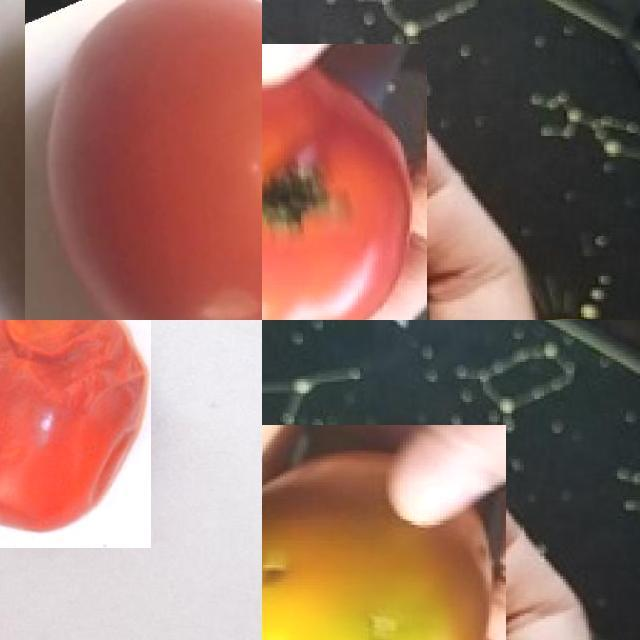Fresh Tomato: (25, 0, 262, 320), (262, 44, 427, 320)
Rotten Tomato: (262, 425, 505, 640), (0, 320, 150, 548)
